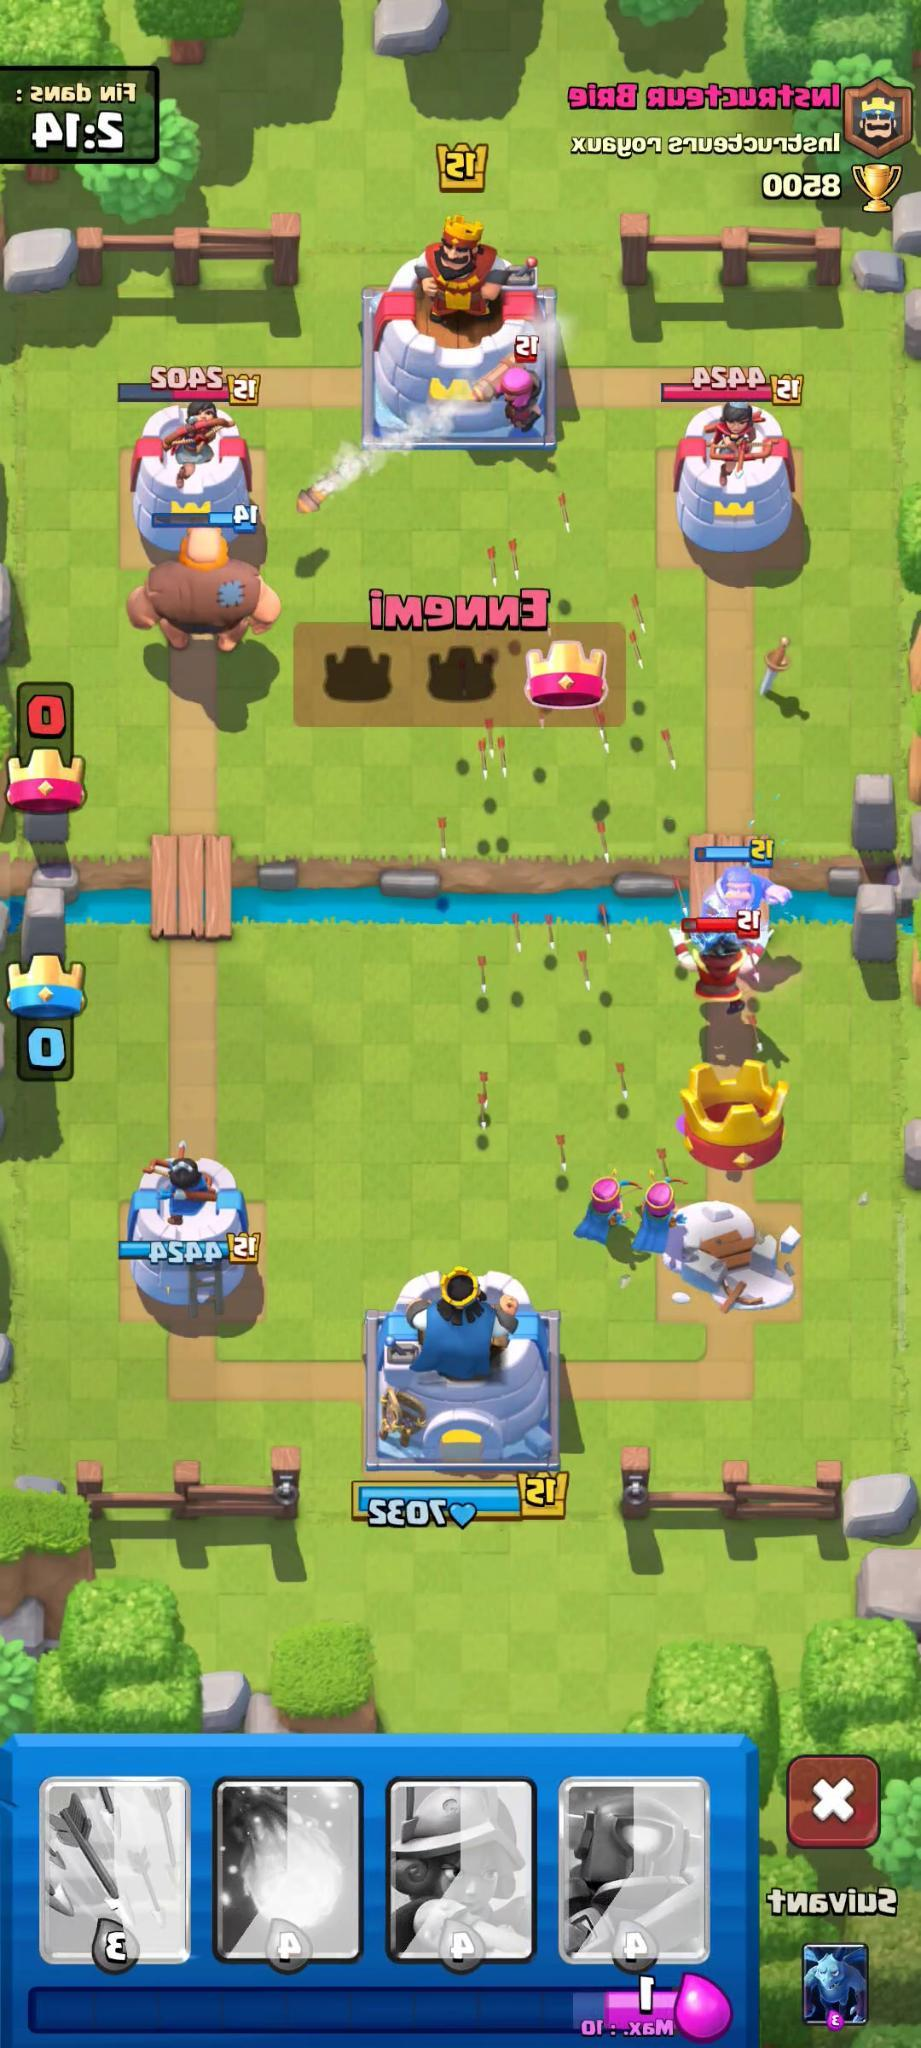enemy_electro_wizard: (668, 922, 757, 991)
enemy_firecracker: (460, 338, 555, 438)
player_archers: (629, 1162, 683, 1263), (570, 1166, 630, 1249)
player_giant: (120, 513, 289, 665)
player_knight: (688, 838, 785, 918)
